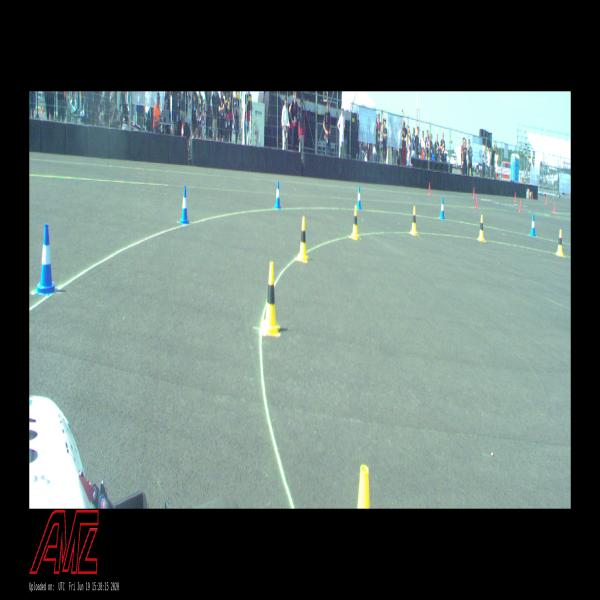blue_cone: (34, 224, 57, 296), (179, 186, 190, 225), (274, 181, 281, 208), (530, 215, 536, 236), (357, 186, 361, 210), (440, 198, 444, 219)
yellow_cone: (262, 262, 280, 337), (297, 217, 308, 262), (350, 206, 360, 240), (556, 229, 564, 257), (410, 206, 417, 236), (477, 215, 485, 241)
